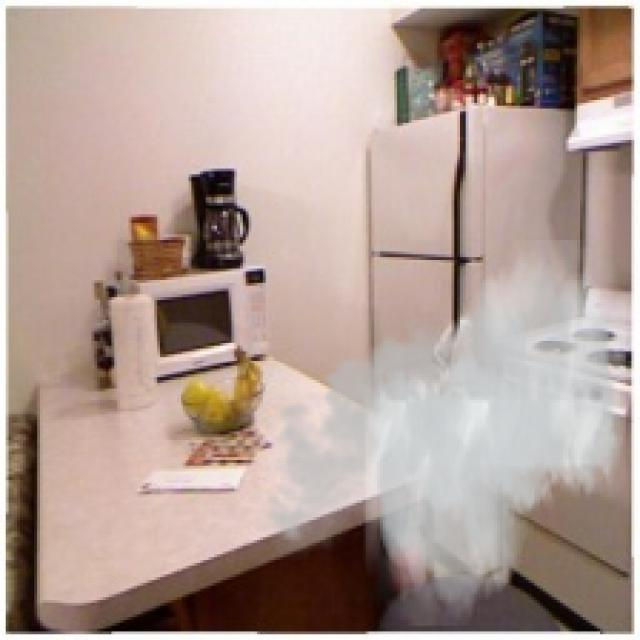Smoke: (254, 240, 626, 626)
